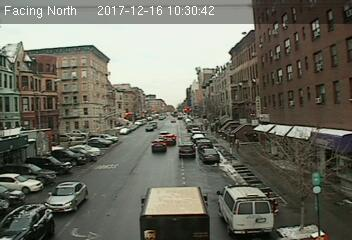car: (46, 182, 89, 211), (178, 142, 196, 159), (200, 149, 220, 163), (149, 139, 168, 153)
police: (214, 179, 276, 238)
ups: (138, 186, 213, 240)
